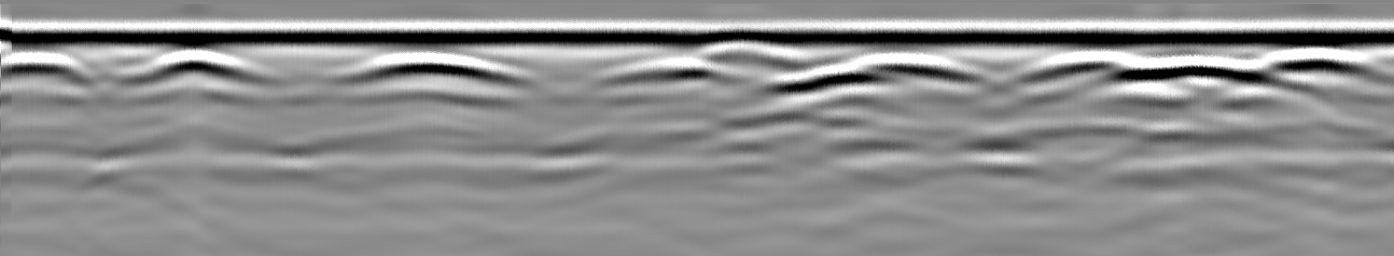pipe: (700, 28, 795, 59)
steel: (1035, 50, 1370, 88), (357, 47, 510, 82), (135, 46, 263, 87), (832, 54, 976, 87), (1, 50, 86, 84), (611, 56, 717, 82)
